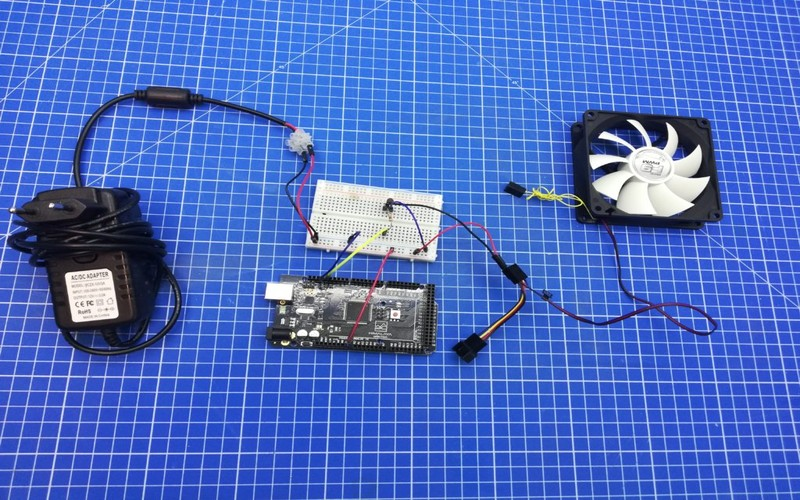Regulator: (250, 263, 444, 364)
